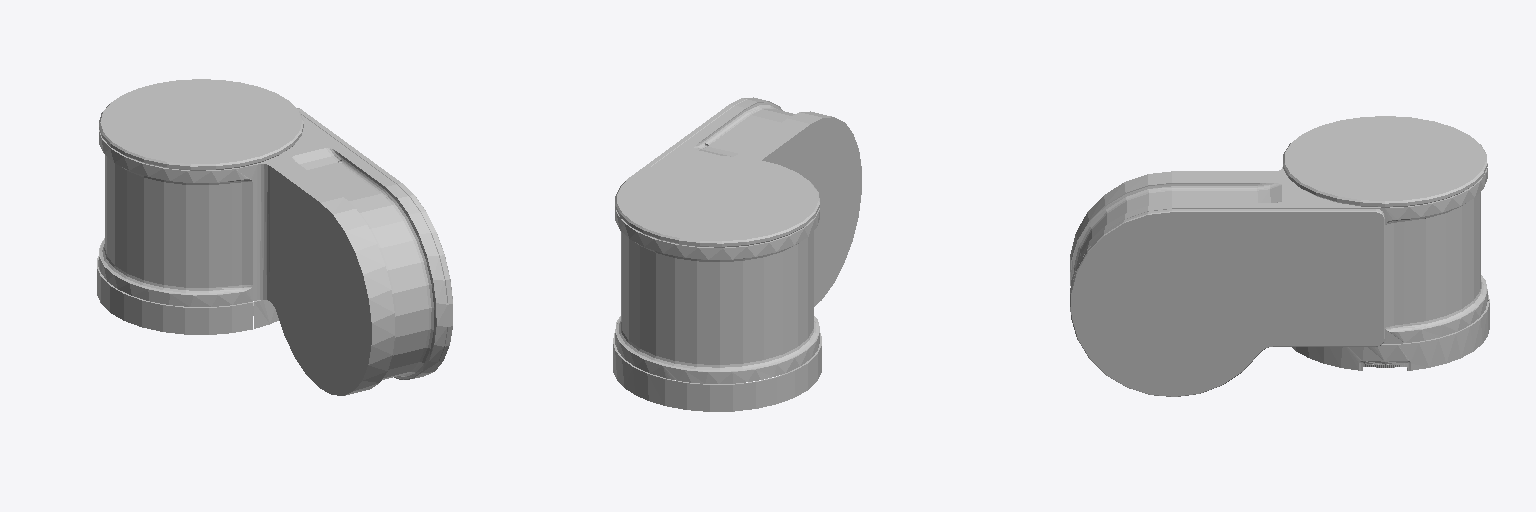
Rendered from right_lower_hip.stl.obj.
3 views of the same model, side by side, from view 1: azimuth 30°, elevation 25°; view 2: azimuth 150°, elevation 25°; view 3: azimuth 270°, elevation 25° (orthographic).
Visible parts, largest first — view 1: <STL_BINARY>; view 2: <STL_BINARY>; view 3: <STL_BINARY>.
Boxes of the visible parts, box(x1,y1,x2,y2) form: <STL_BINARY>: box(97, 79, 452, 395); <STL_BINARY>: box(613, 97, 861, 411); <STL_BINARY>: box(1070, 116, 1489, 396).
Bounding box in the file's own units: 0.1212 × 0.12 × 0.237.